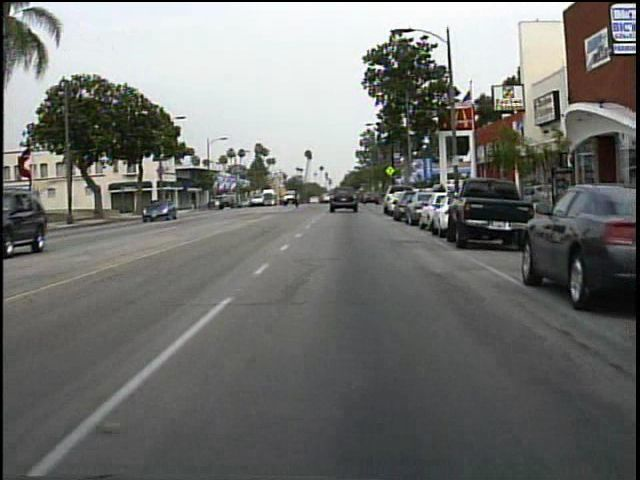person: (432, 179, 452, 217), (290, 185, 304, 213)
